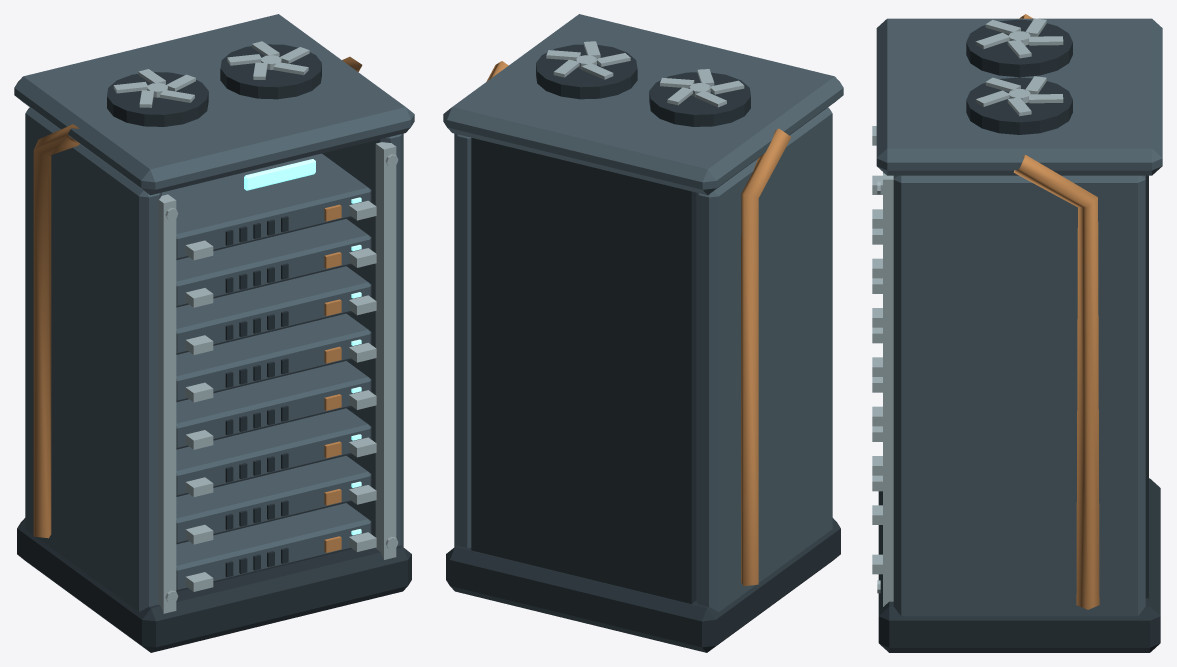
The model's file is rack-enterprise.glb.
3 views of the same model, side by side, from view 1: azimuth 30°, elevation 25°; view 2: azimuth 150°, elevation 25°; view 3: azimuth 270°, elevation 25° (orthographic). The views are drawn at different scales.
Visible parts, largest first — view 1: rack_chassis, compute_modules; view 2: rack_chassis, compute_modules; view 3: rack_chassis, compute_modules.
Boxes of the visible parts, x1,y1,x2,y2 form: rack_chassis: (14, 14, 414, 652); compute_modules: (33, 41, 376, 591); rack_chassis: (443, 14, 843, 652); compute_modules: (486, 41, 791, 586); rack_chassis: (876, 18, 1162, 652); compute_modules: (872, 14, 1099, 609).
Bounding box in the file's own units: 0.834 × 1.35 × 0.68.
